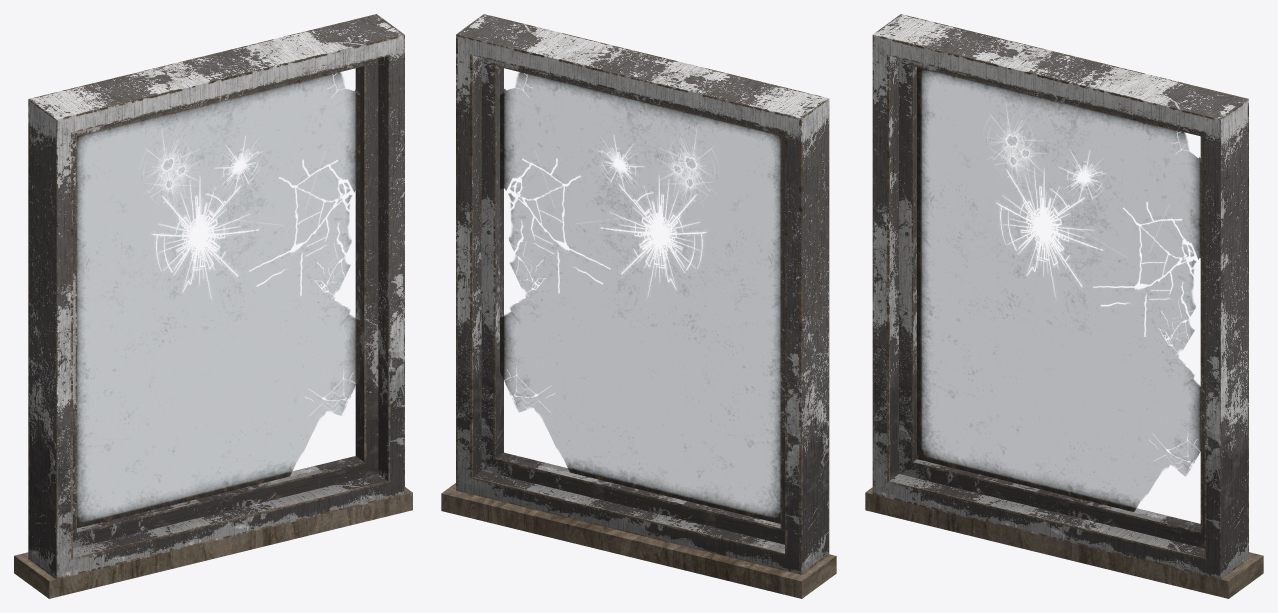
The model's file is broken_window_04.glb.
3 views of the same model, side by side, from view 1: azimuth 30°, elevation 25°; view 2: azimuth 150°, elevation 25°; view 3: azimuth 330°, elevation 25° (orthographic).
Visible parts, largest first — view 1: Glass_001, Window_001, Frame_001; view 2: Glass_001, Window_001, Frame_001; view 3: Glass_001, Window_001, Frame_001.
Boxes of the visible parts, bbox=[...] form: Glass_001: bbox=[77, 72, 360, 528]; Window_001: bbox=[28, 14, 404, 579]; Frame_001: bbox=[14, 487, 412, 598]; Glass_001: bbox=[500, 72, 780, 523]; Window_001: bbox=[456, 14, 829, 574]; Frame_001: bbox=[441, 483, 836, 598]; Glass_001: bbox=[917, 67, 1200, 511]; Window_001: bbox=[872, 14, 1248, 579]; Frame_001: bbox=[865, 487, 1263, 598].
Size of the model in its own units: 1.59 by 2 by 0.2661.
Materials: 2 (2 with a texture image).
